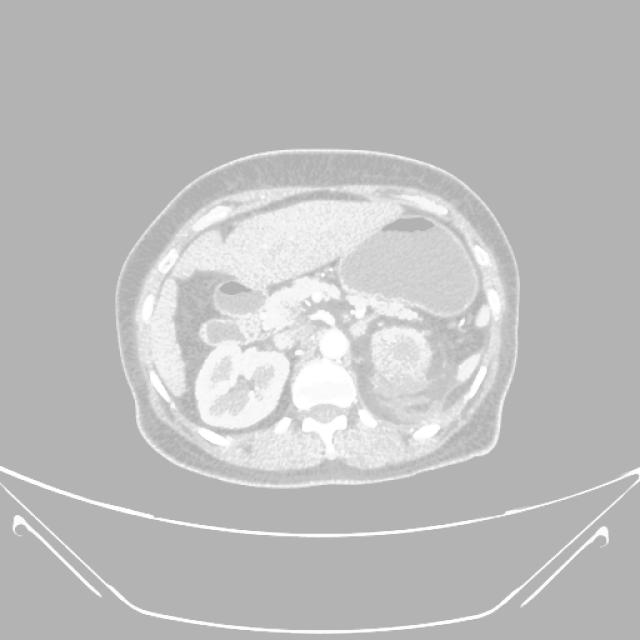TUMOR: (95, 177, 546, 396)
